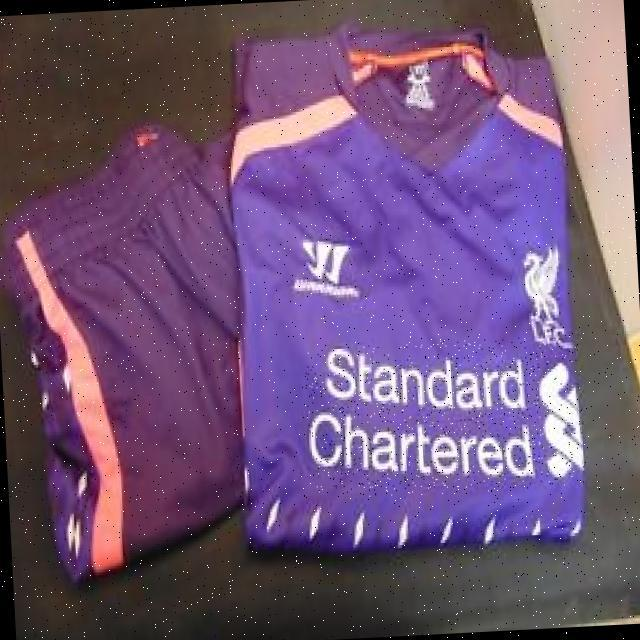Standard Chartered: (304, 334, 585, 501)
